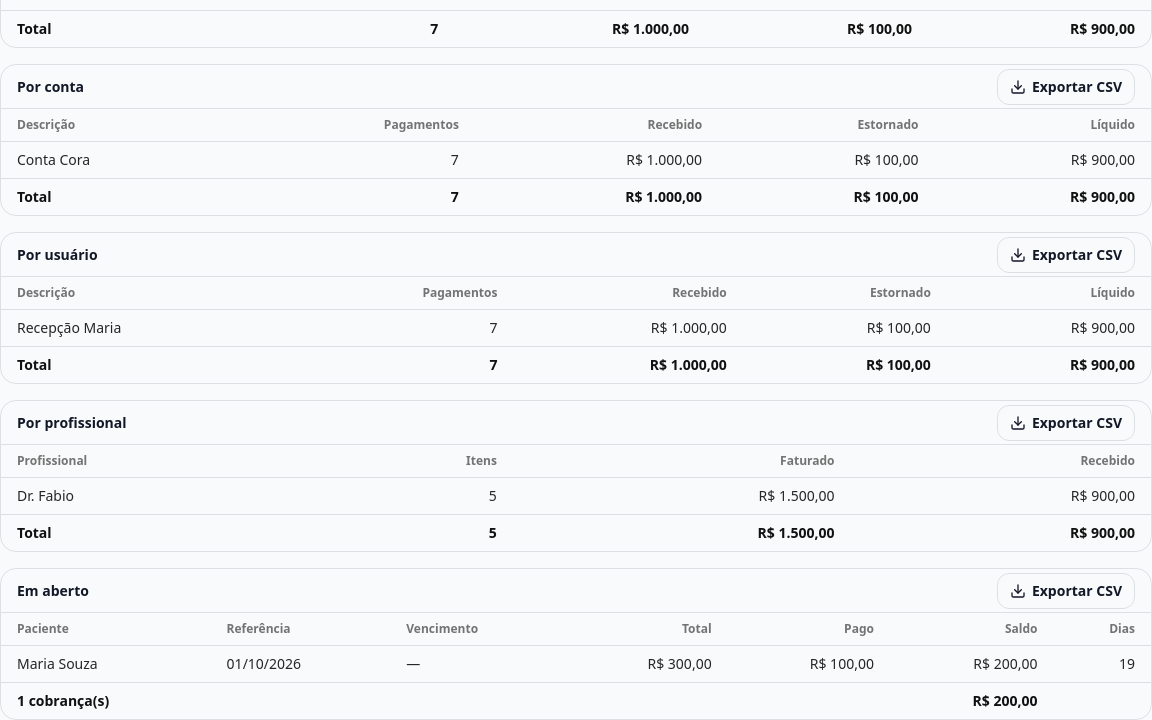
Scenario: ReportsTab › avisa por toast quando a exportação falha
(page scrolled)
Expected: the table named "Em aberto" is shown, left=1, top=613, right=1151, bottom=719
Click the button with aria-label "Exportar CSV em aberto" at (1066, 590), box left=997, top=572, right=1135, bottom=608
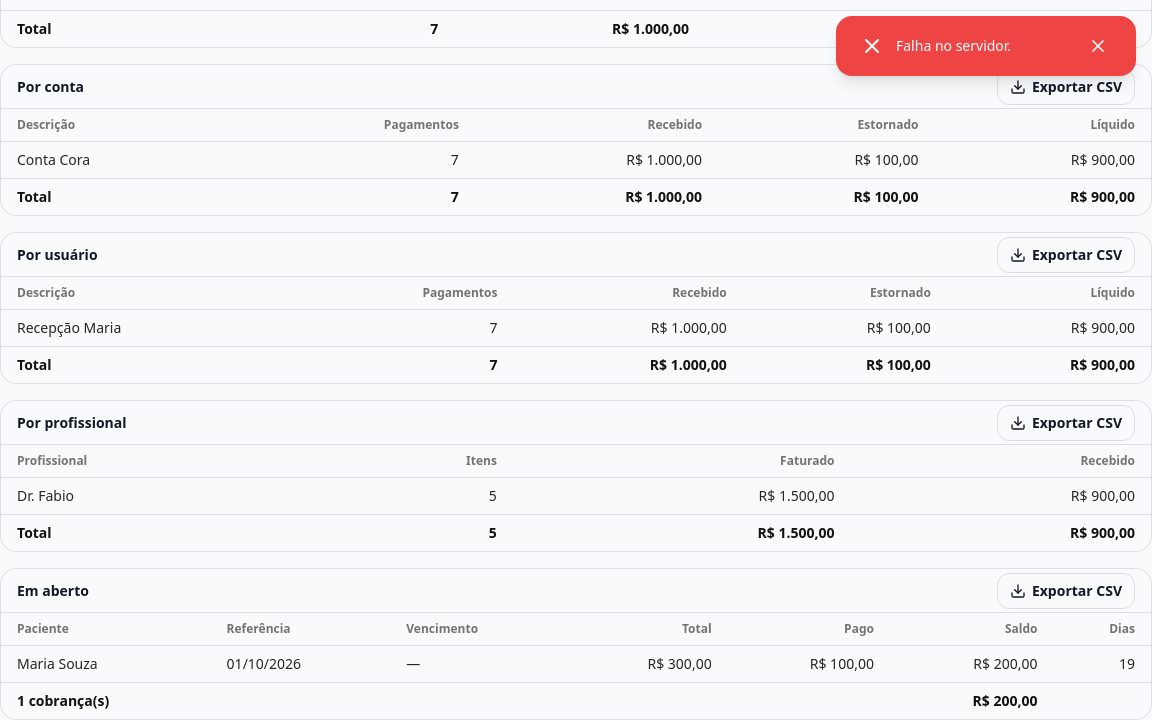
Now the text "Falha no servidor." is shown, box left=896, top=36, right=1011, bottom=55
